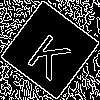K: (25, 25, 79, 82)
